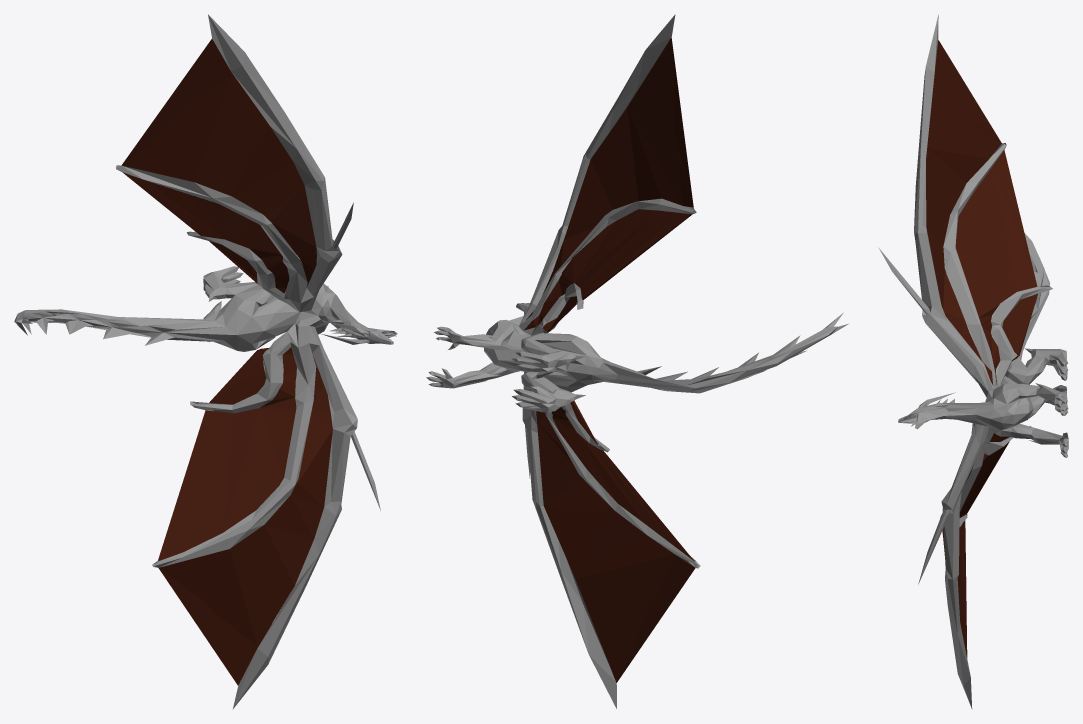
Rendered from Dragon_2.5_For_Animations_000130.obj.
3 renders of one model, left to right at view 1: azimuth 30°, elevation 25°; view 2: azimuth 150°, elevation 25°; view 3: azimuth 270°, elevation 25°, orthographic. The views are drawn at different scales.
Parts seen in each view (by area): view 1: Cube_Cube.004; view 2: Cube_Cube.004; view 3: Cube_Cube.004.
Part boxes in pixels (box(x1,y1,x2,y2)): Cube_Cube.004: box(14, 14, 397, 709); Cube_Cube.004: box(426, 14, 848, 708); Cube_Cube.004: box(878, 14, 1068, 709).
Size of the model in its own units: 83.54 by 155 by 39.58.
